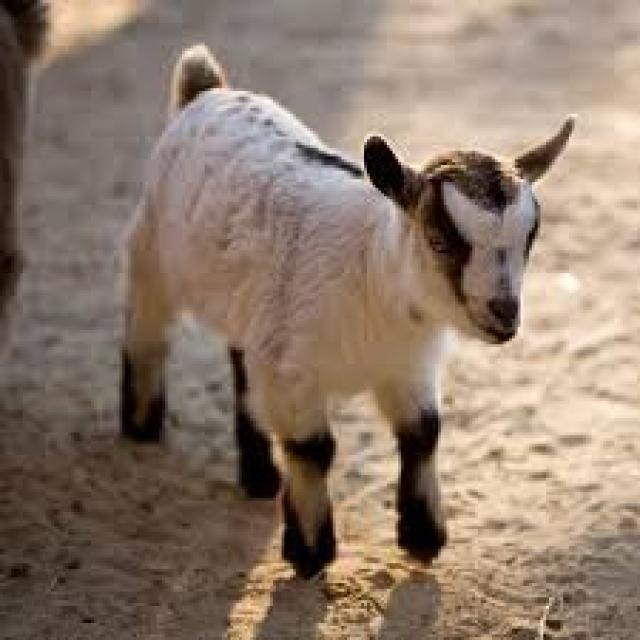Goat: (111, 56, 552, 584)
